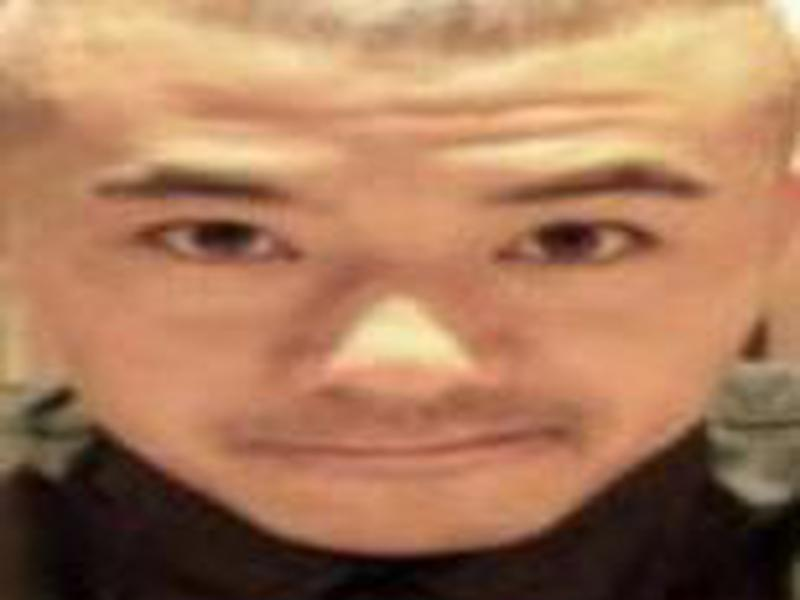without_mask: (19, 31, 778, 555)
